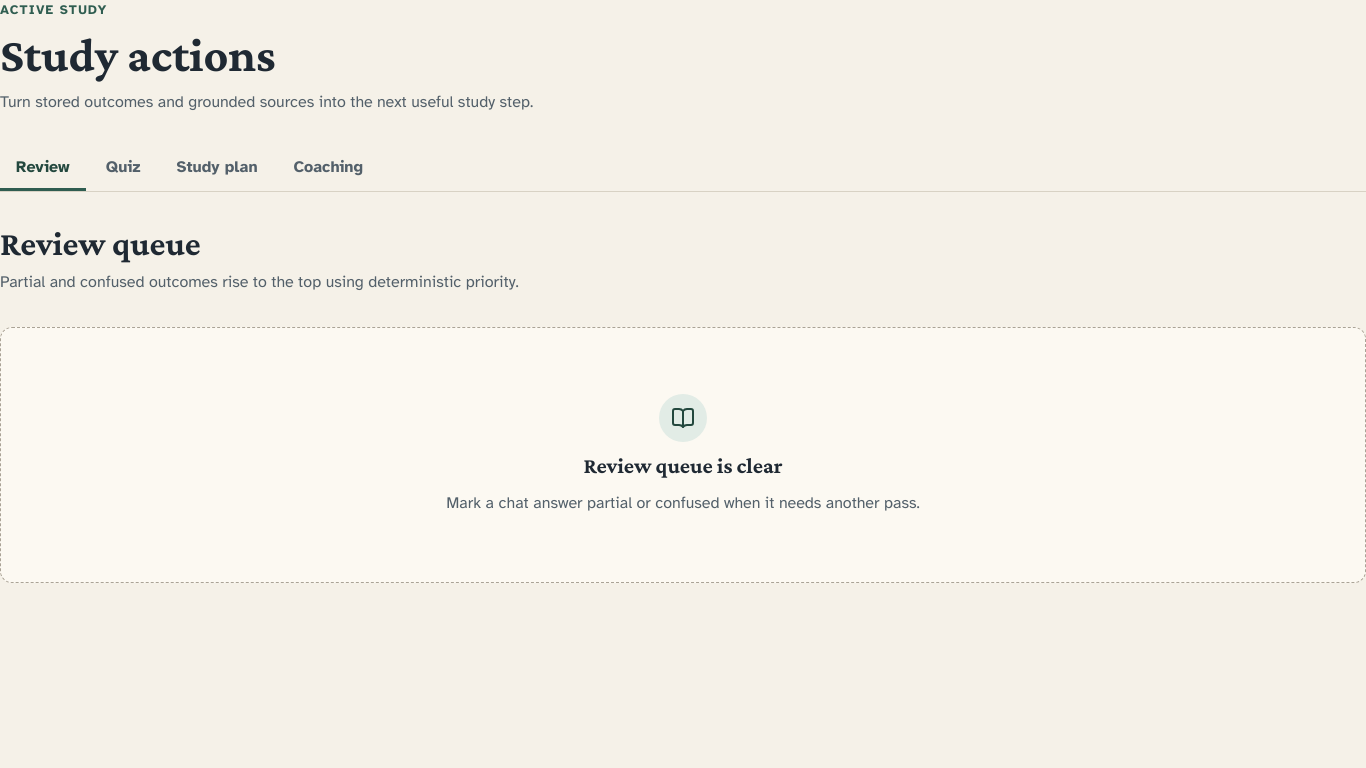
recoverable study workflows › keeps quiz answers secret before submit and renders server-scored feedback
Click the tab "Quiz": (123,169) [90, 147, 157, 191]
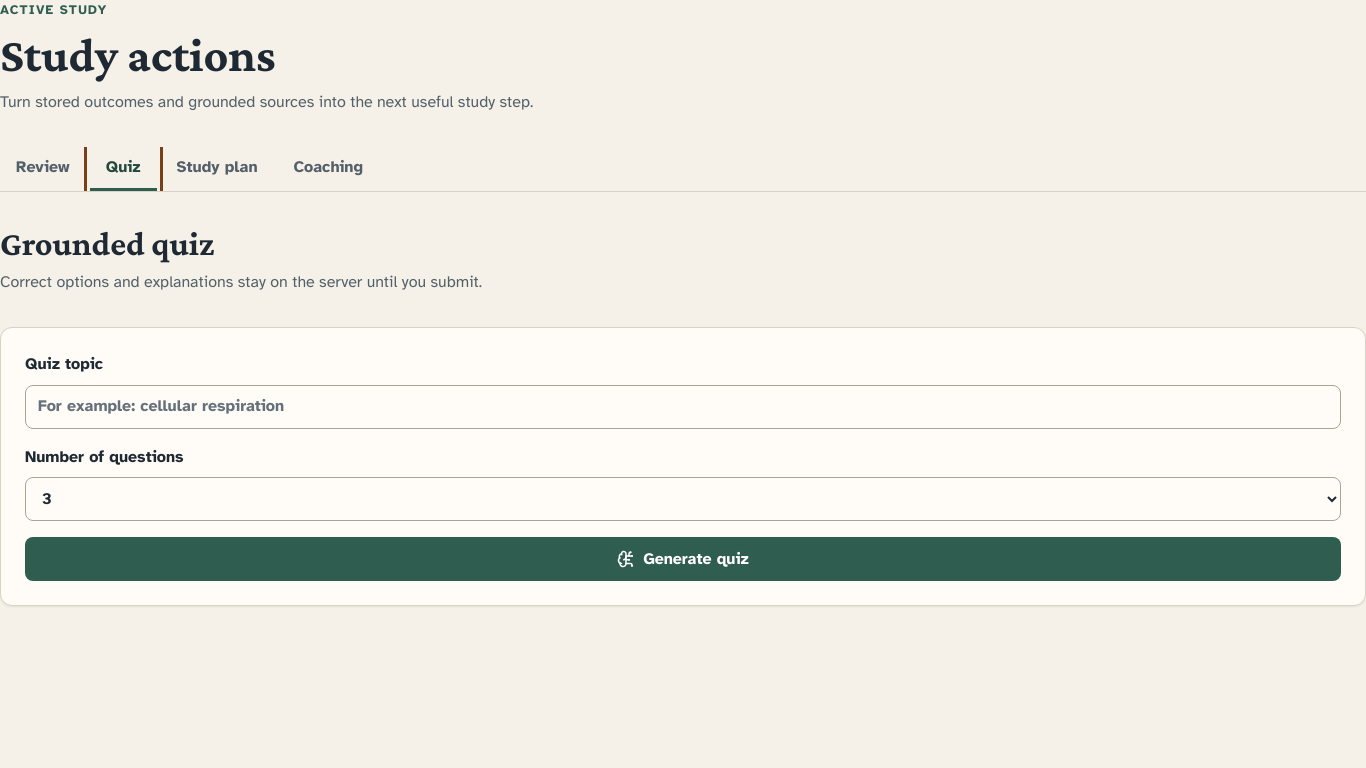
In the field labelled "Quiz topic": (683,406) [25, 384, 1341, 428], type "plant energy"
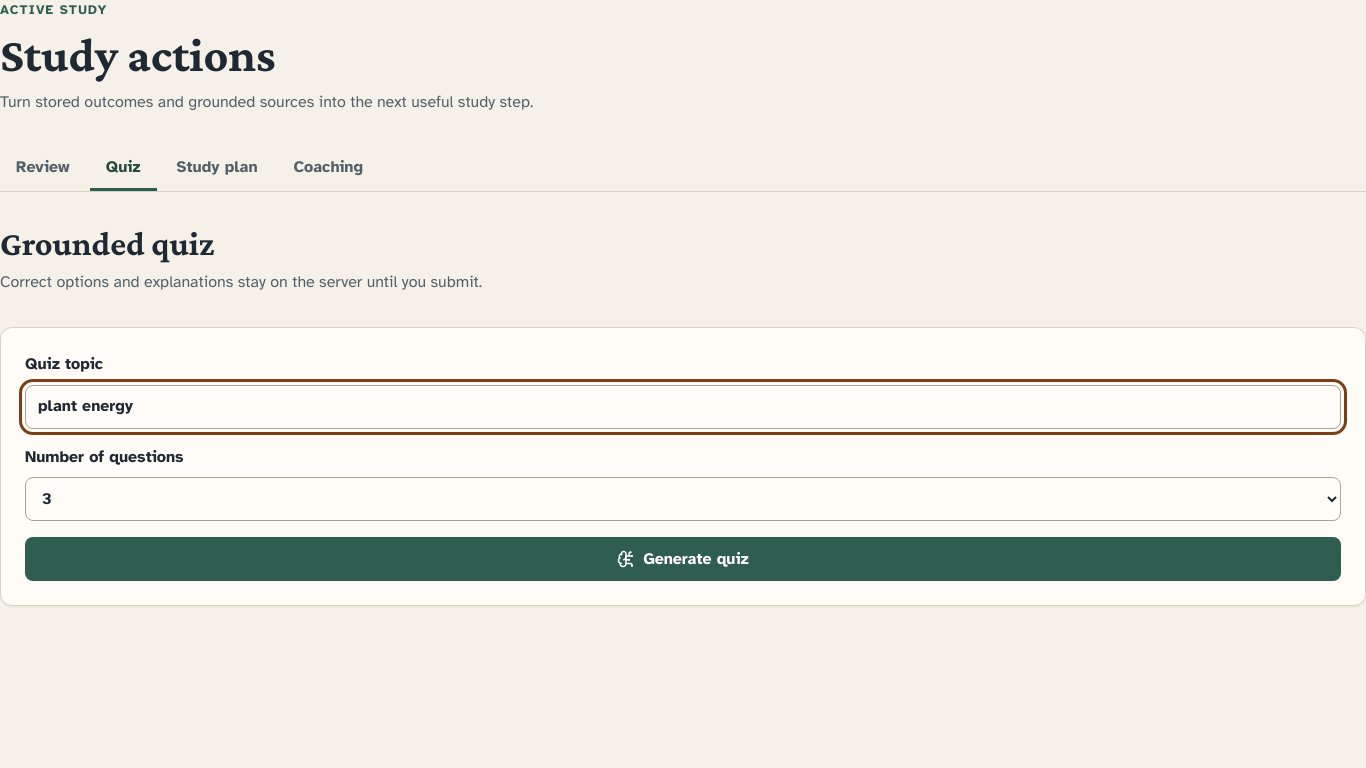
Select "1" in the dropdown labelled "Number of questions": (683,499) [25, 477, 1341, 521]
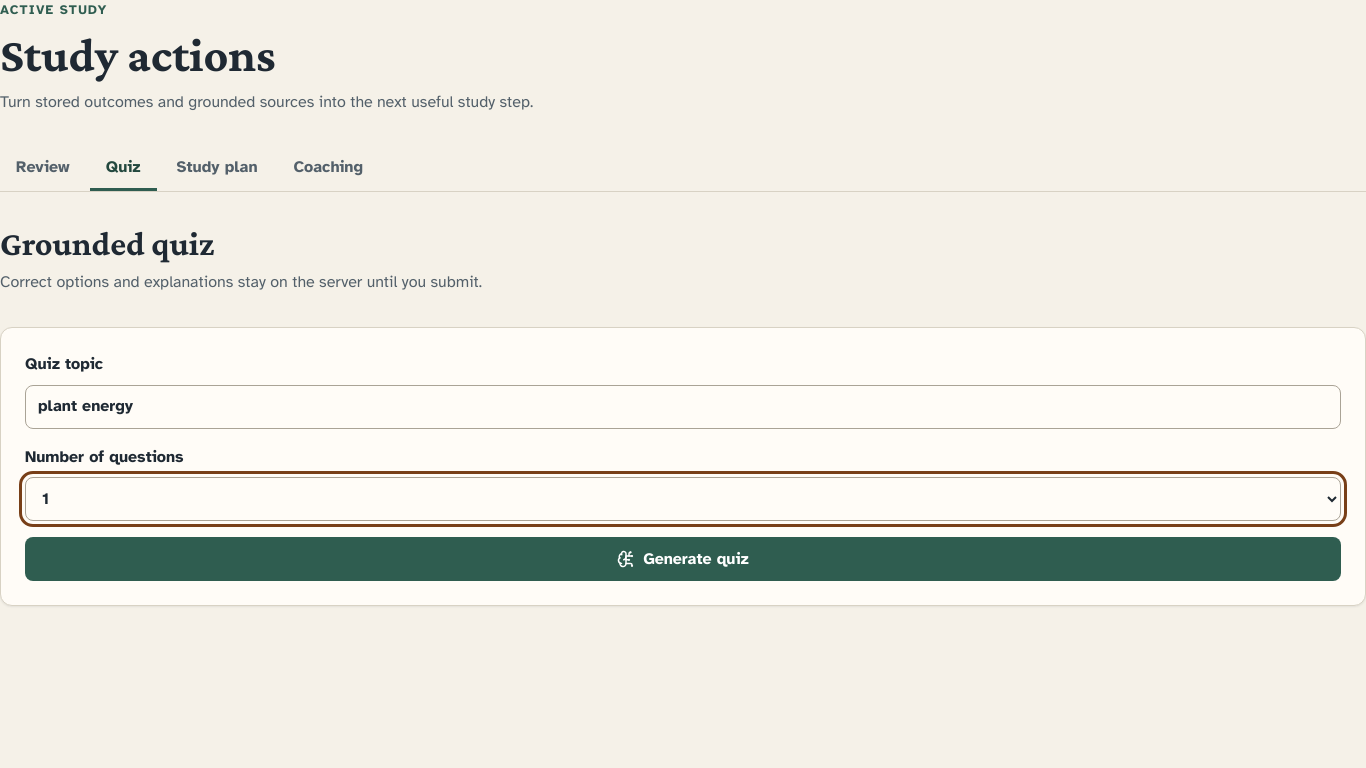
Click the button "Generate quiz": (683,559) [25, 537, 1341, 581]
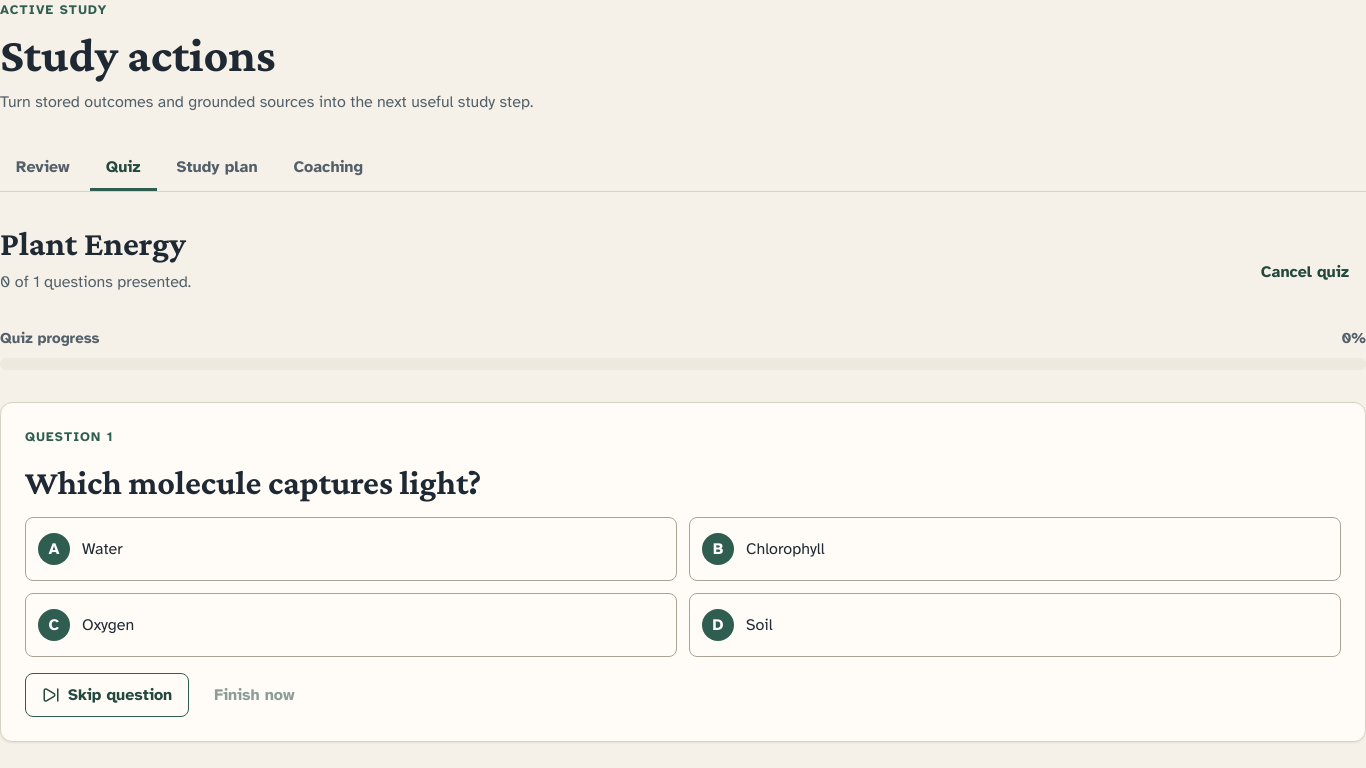
Expected: the text "SERVER_SECRET_EXPLANATION" is not shown
Expected: the heading "Which molecule captures light?" is shown, [25, 463, 481, 501]
Click the button "B Chlorophyll": (718,549) [689, 517, 1341, 581]
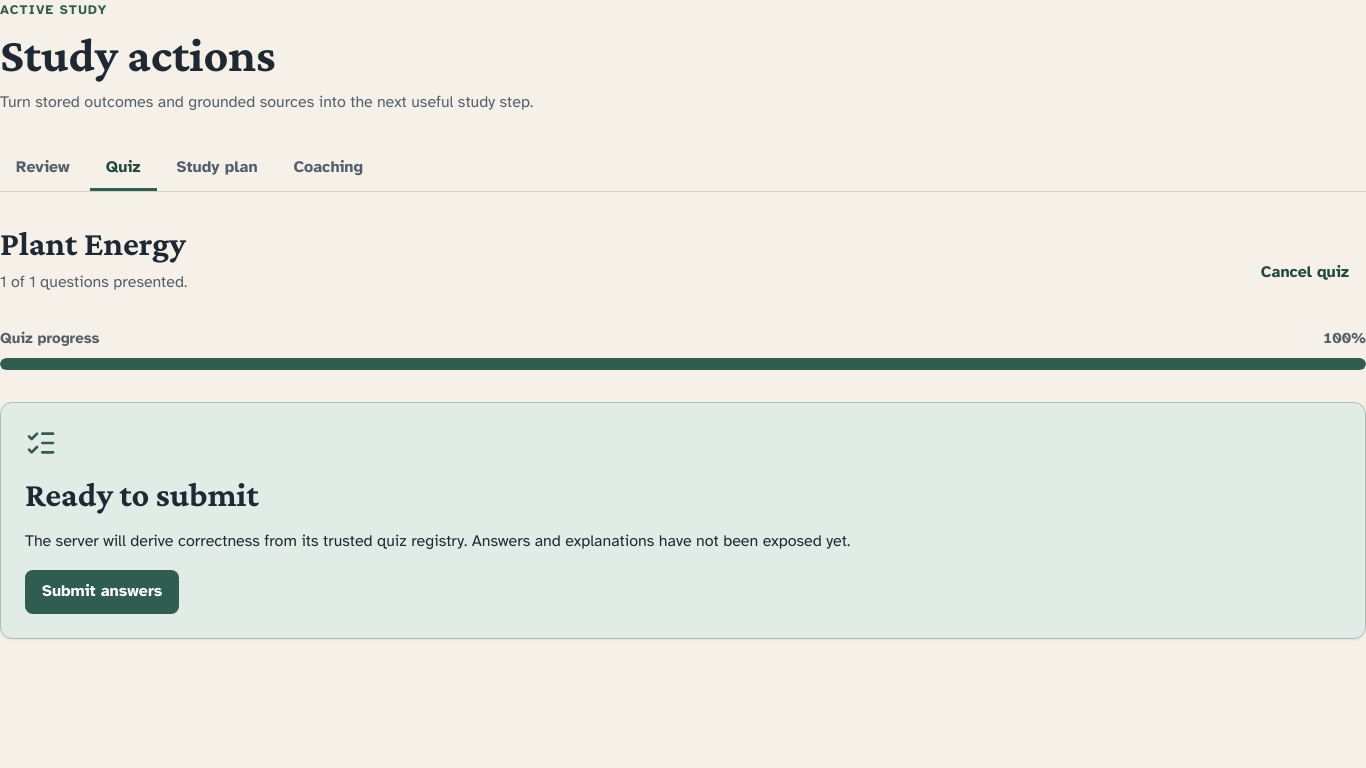
Expected: the heading "Ready to submit" is shown, [25, 475, 259, 513]
Click the button "Submit answers": (102,592) [25, 570, 179, 614]
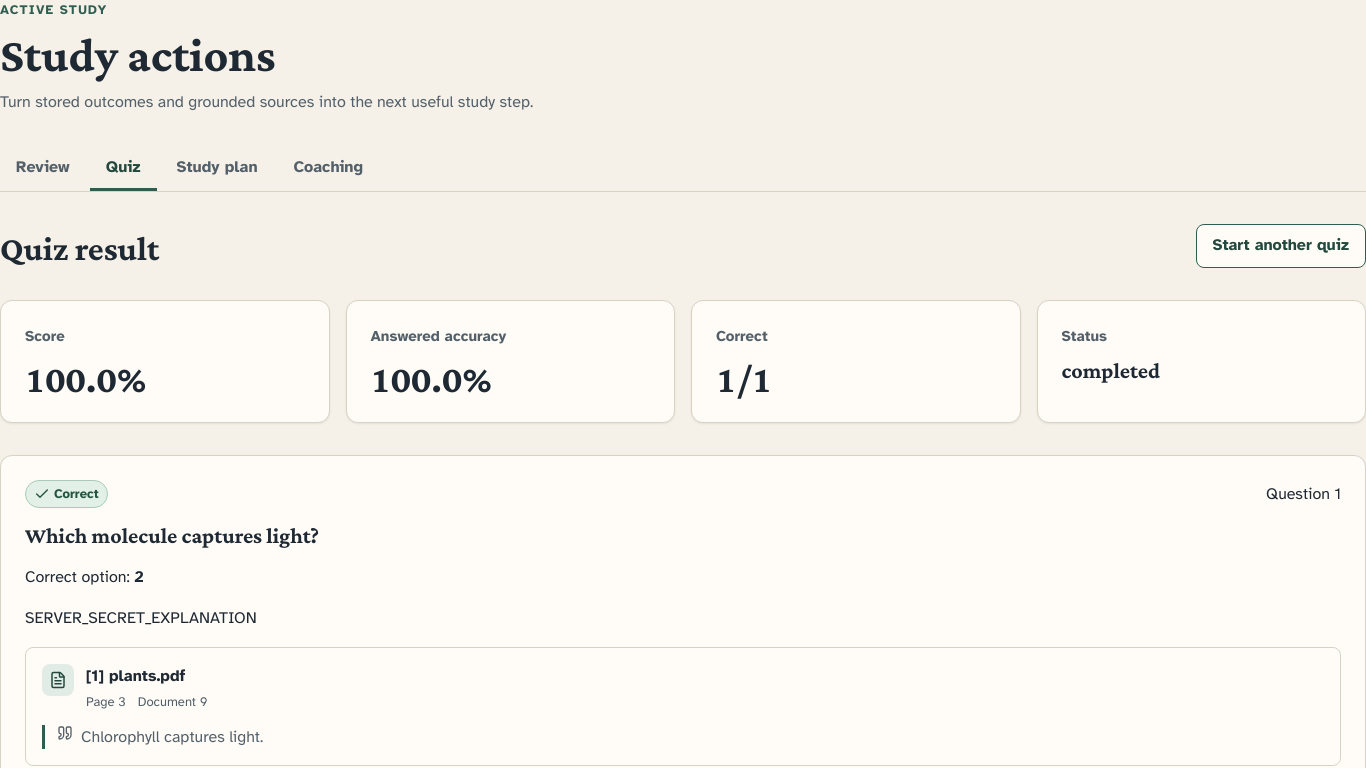
Expected: the text "SERVER_SECRET_EXPLANATION" is shown, [25, 608, 257, 628]
Expected: the text "Correct option: 2" is shown, [25, 567, 144, 587]
